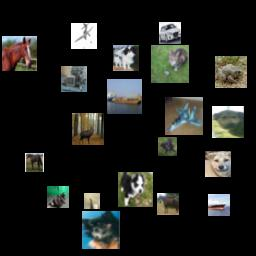airplane: (165, 97, 203, 135), (71, 23, 97, 49)
automobile: (159, 22, 181, 44)
bird: (84, 193, 100, 209)
cat: (151, 45, 189, 83), (47, 186, 69, 208)
deer: (72, 113, 104, 145)
dog: (82, 211, 120, 249), (118, 172, 153, 207), (212, 106, 244, 138), (113, 45, 139, 71), (205, 151, 231, 177), (158, 137, 177, 156)
frog: (215, 56, 247, 88)
ship: (107, 79, 142, 114), (208, 194, 230, 216)
truck: (61, 66, 87, 92)
